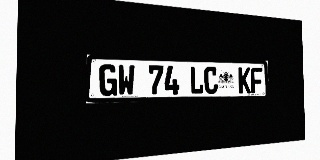4: (164, 65, 179, 95)
7: (148, 65, 164, 95)
C: (204, 66, 218, 94)
F: (251, 67, 263, 93)
G: (99, 64, 117, 96)
K: (238, 67, 251, 93)
L: (190, 66, 204, 94)
W: (118, 64, 135, 96)
